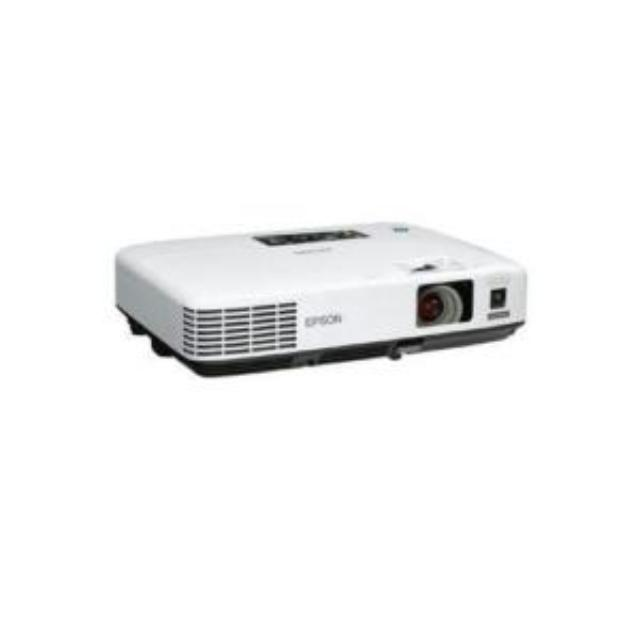Projector: (114, 216, 532, 378)
